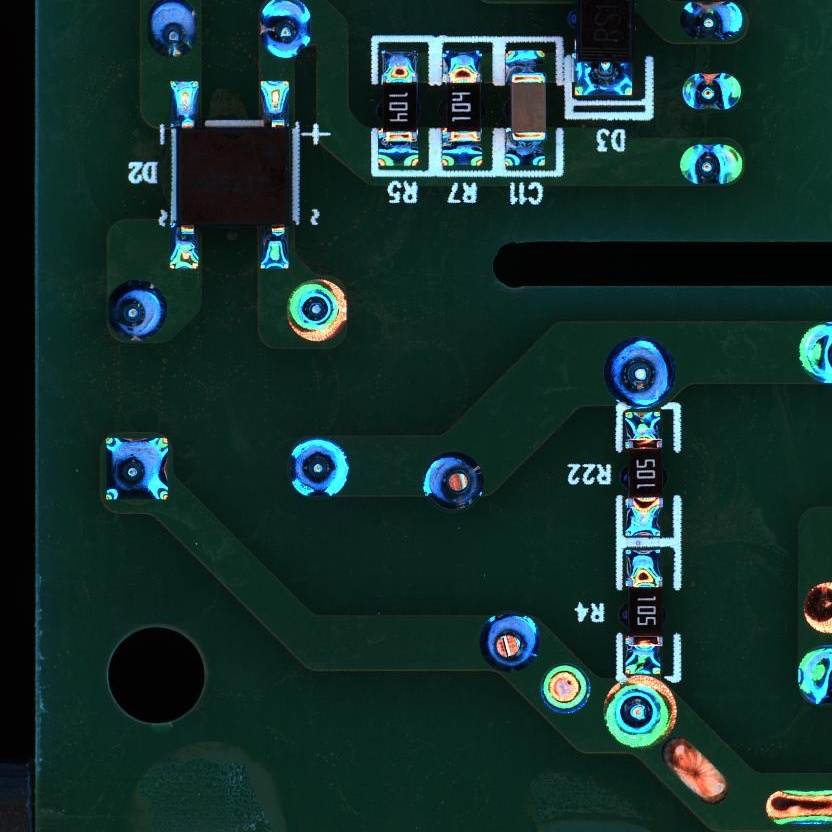spot: (600, 674, 680, 752), (603, 335, 677, 409), (281, 277, 348, 344), (102, 436, 170, 502), (421, 450, 486, 516), (286, 436, 349, 502), (478, 610, 542, 673), (104, 279, 168, 341), (257, 1, 312, 61), (677, 142, 747, 188), (146, 1, 198, 61), (538, 662, 592, 715), (676, 1, 747, 41), (682, 71, 741, 112)
